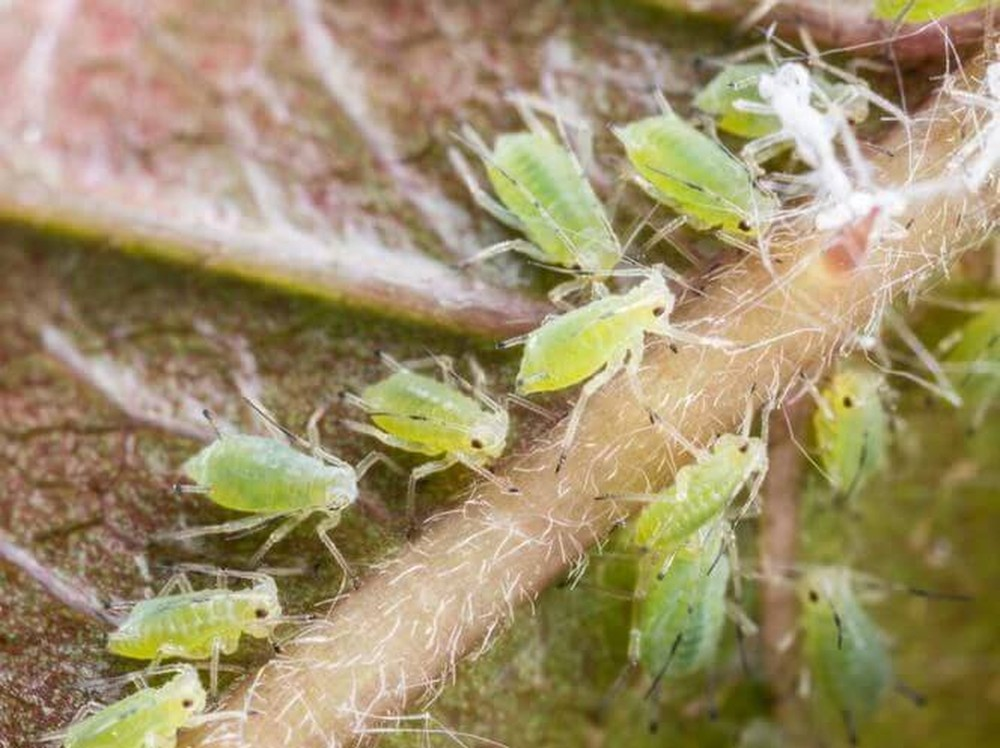Pulgon: (776, 541, 969, 738), (609, 93, 809, 283), (332, 337, 545, 515), (167, 395, 398, 559), (455, 107, 639, 290), (496, 260, 725, 407), (92, 555, 309, 666), (697, 37, 896, 154), (792, 346, 935, 507), (52, 671, 261, 740)
